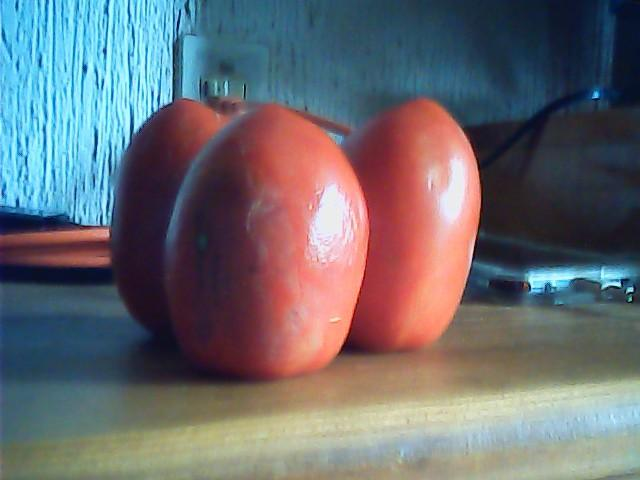defectuoso: (161, 100, 366, 380)
maduro: (312, 97, 486, 354), (109, 96, 239, 336)
